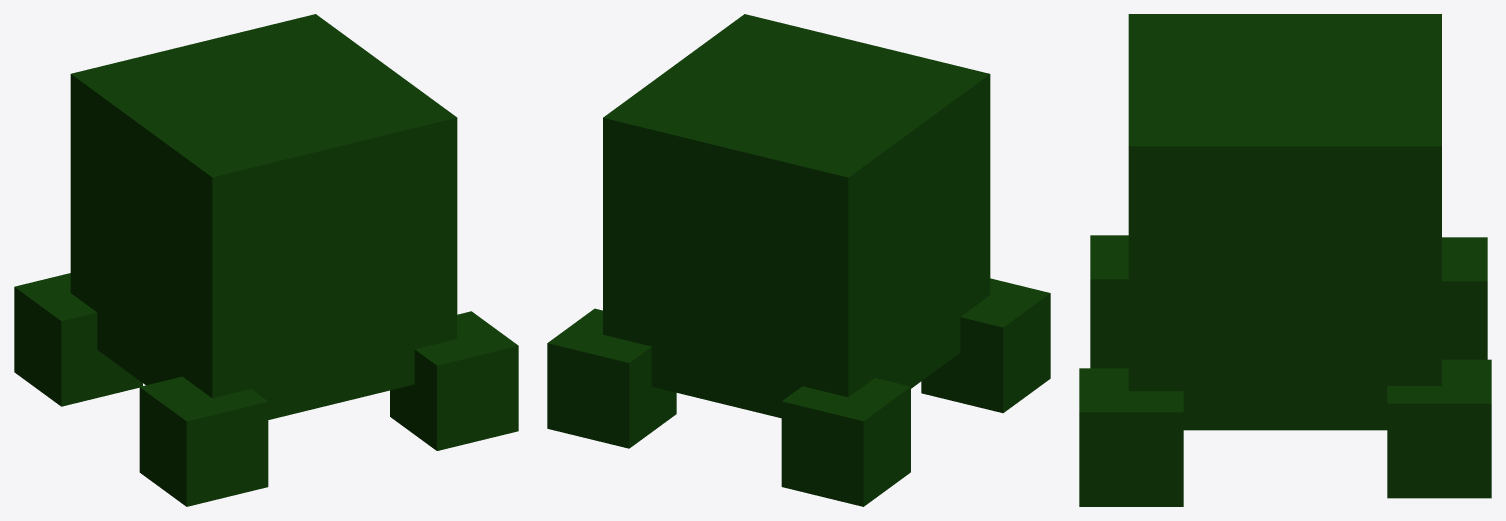
File: frog.dae
3 renders of one model, left to right at view 1: azimuth 30°, elevation 25°; view 2: azimuth 150°, elevation 25°; view 3: azimuth 270°, elevation 25°, orthographic. The views are drawn at different scales.
Parts seen in each view (by area): view 1: Cube, Cube.004, Cube.001, Cube.003; view 2: Cube, Cube.003, Cube.002, Cube.004; view 3: Cube, Cube.001, Cube.002, Cube.003, Cube.004.
Boxes of the visible parts, x1,y1,x2,y2 form: Cube: [70, 14, 457, 419]; Cube.004: [139, 376, 268, 506]; Cube.001: [390, 311, 518, 450]; Cube.003: [14, 273, 142, 406]; Cube: [603, 14, 990, 418]; Cube.003: [781, 378, 910, 506]; Cube.002: [547, 308, 676, 448]; Cube.004: [921, 278, 1050, 413]; Cube: [1128, 14, 1441, 430]; Cube.001: [1079, 368, 1183, 506]; Cube.002: [1387, 359, 1491, 498]; Cube.003: [1442, 237, 1487, 359]; Cube.004: [1090, 235, 1128, 368].
Bounding box in the file's own units: 0.4164 × 0.4108 × 0.3733.
